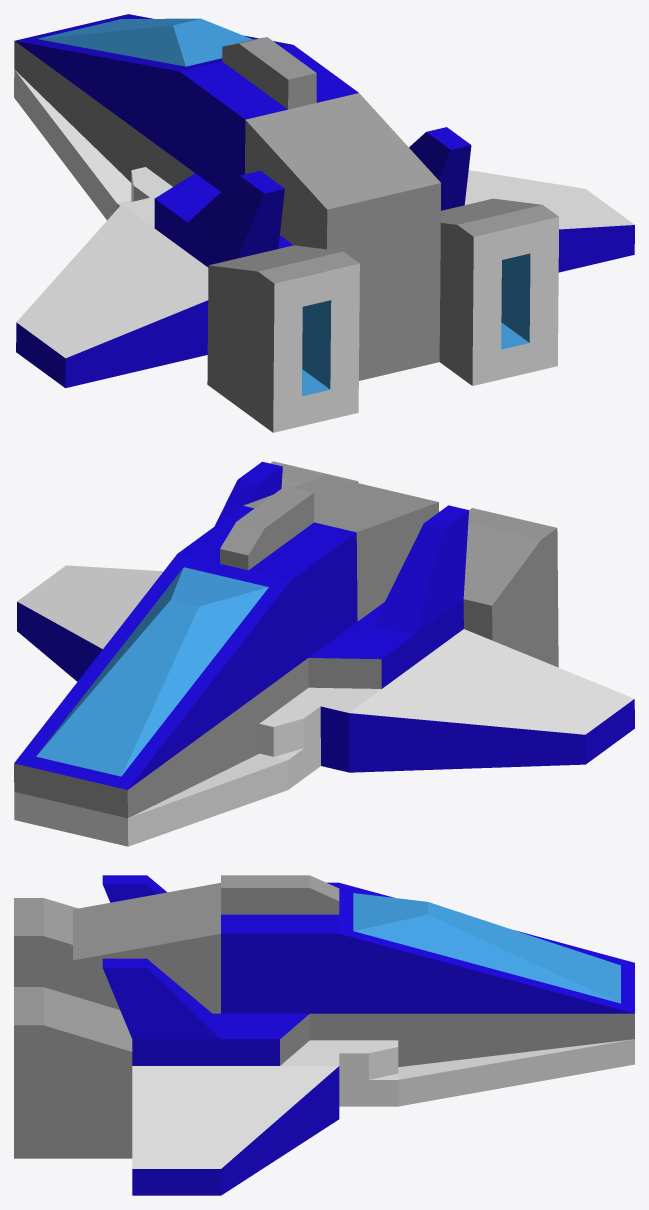
Rendered from nave3.glb.
The picture shows the model from 3 angles, top to bottom: view 1: azimuth 30°, elevation 25°; view 2: azimuth 150°, elevation 25°; view 3: azimuth 270°, elevation 25°; orthographic projection. The views are drawn at different scales.
Visible parts, largest first — view 1: craft_speederA; view 2: craft_speederA; view 3: craft_speederA.
Part boxes in pixels (x1,y1,x2,y2): craft_speederA: [14, 14, 634, 432]; craft_speederA: [14, 461, 634, 846]; craft_speederA: [14, 875, 634, 1195].
Bounding box in the file's own units: 2 × 0.805 × 2.1.
